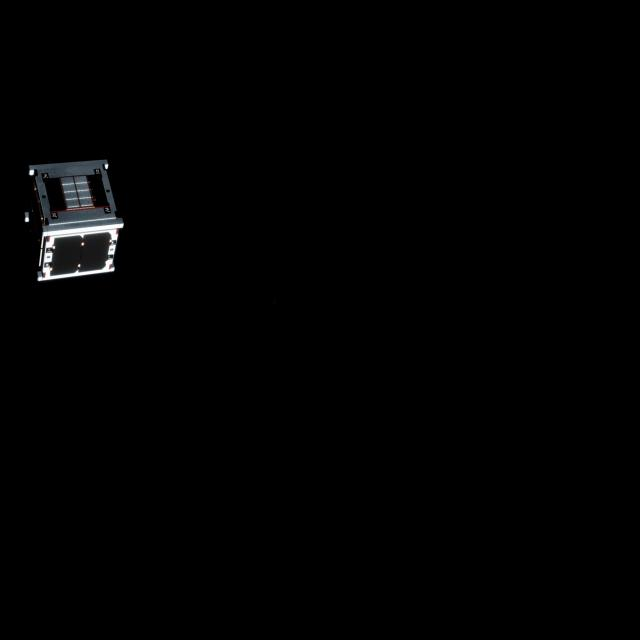medium_debris: (11, 155, 124, 289)
